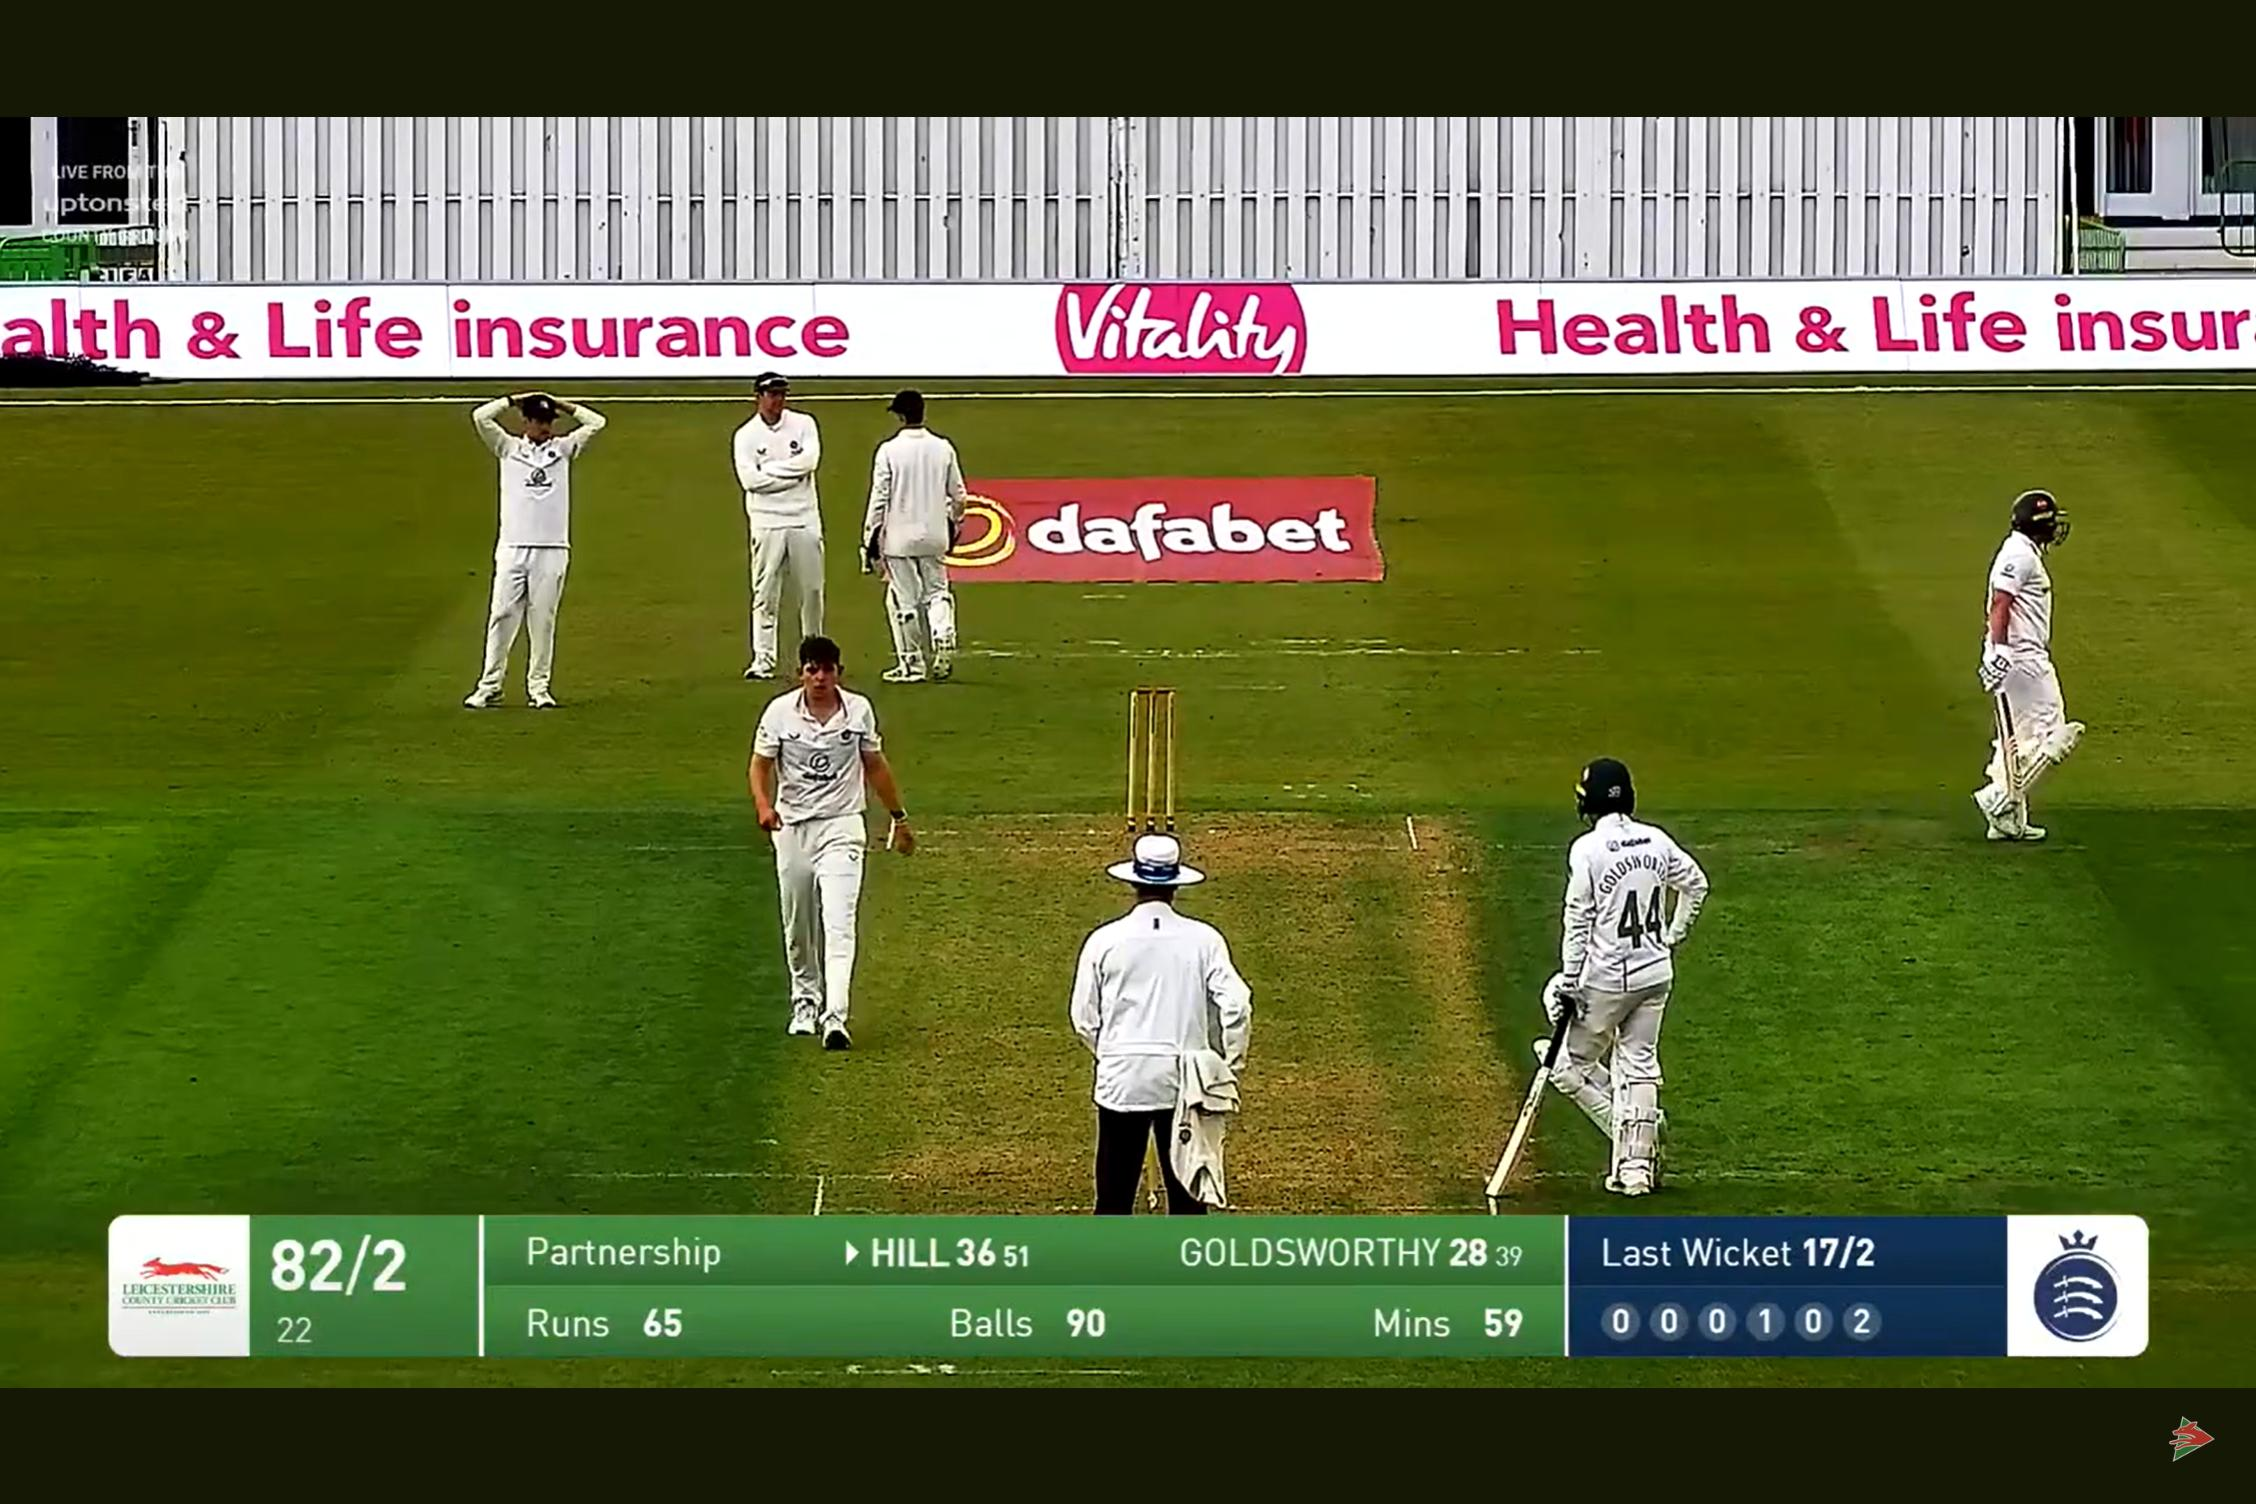batsman: (1966, 428, 2127, 878)
bowler walking back: (749, 646, 925, 1057)
non striker: (1460, 723, 1742, 1193)
stumps: (1088, 656, 1198, 833)
umpire: (1061, 843, 1281, 1204)
wicket keeper: (851, 368, 979, 633)
